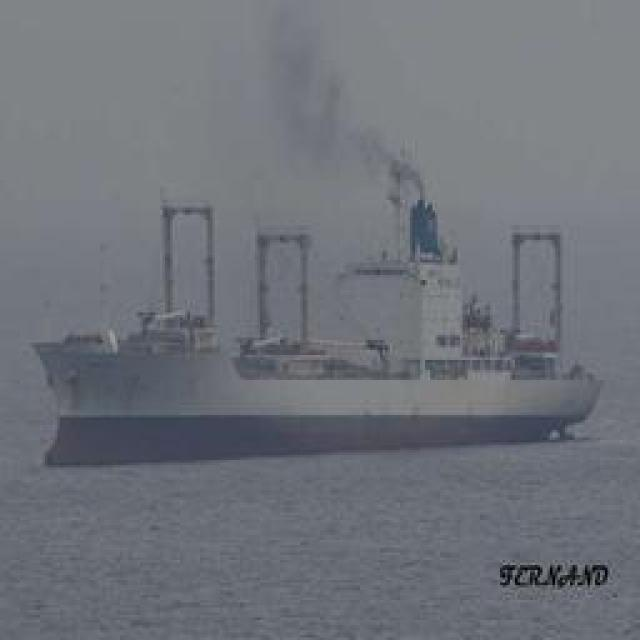CIV_Ship: (34, 271, 608, 454)
